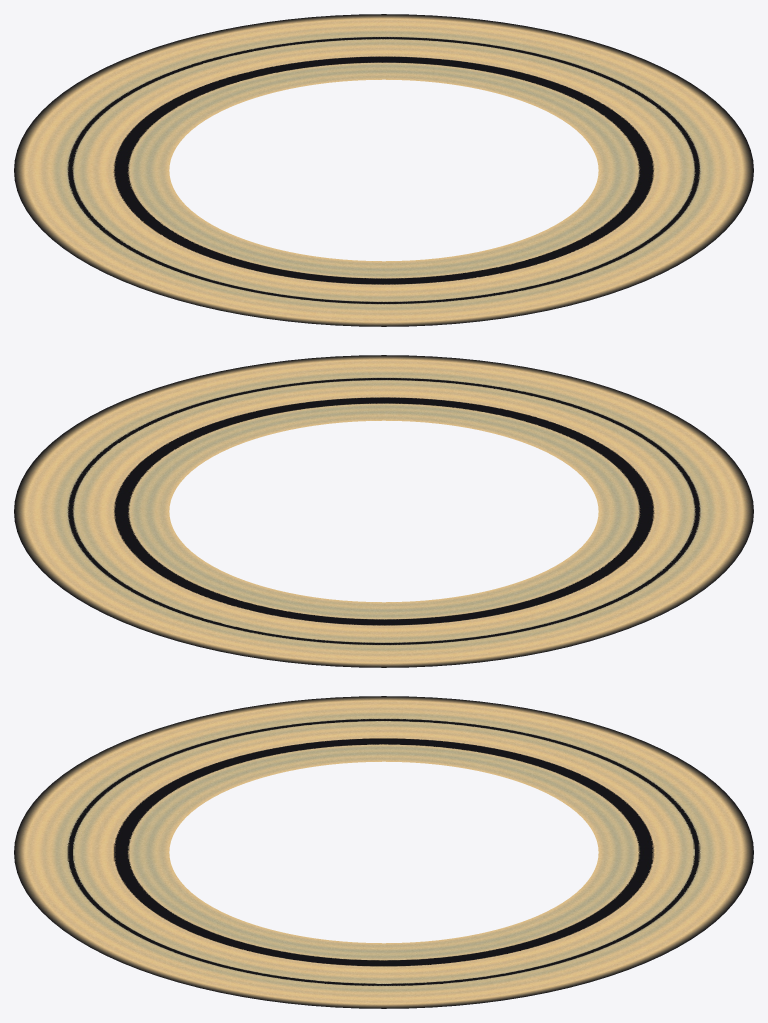
File: planet.obj
3 views of the same model, one above another, from view 1: azimuth 30°, elevation 25°; view 2: azimuth 150°, elevation 25°; view 3: azimuth 270°, elevation 25° (orthographic).
Parts seen in each view (by area): view 1: Rings; view 2: Rings; view 3: Rings.
Part boxes in pixels (x1,y1,x2,y2): Rings: (14, 14, 753, 326); Rings: (14, 355, 753, 667); Rings: (14, 696, 753, 1008).
Bounding box in the file's own units: 2 × 0 × 2.
Materials: 1 (1 with a texture image).
